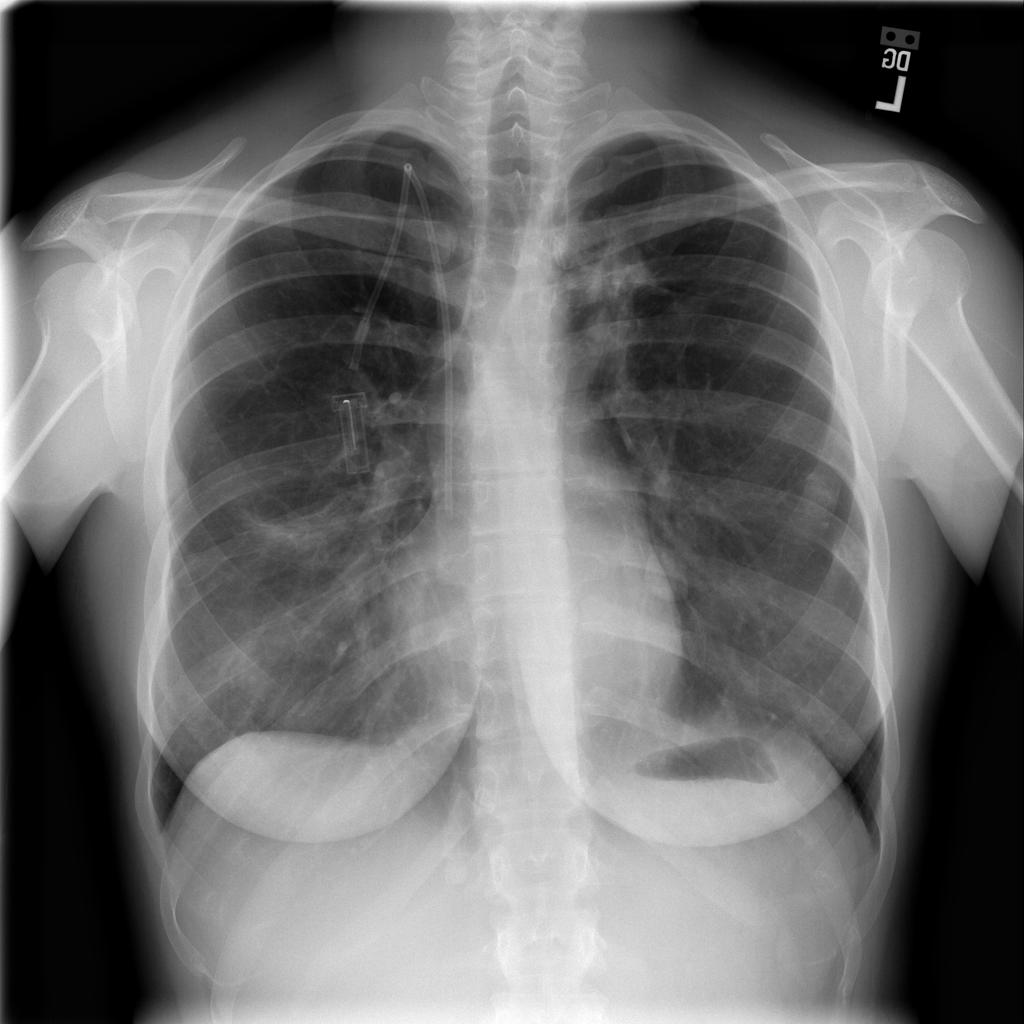nodule: (630, 529, 700, 611)
